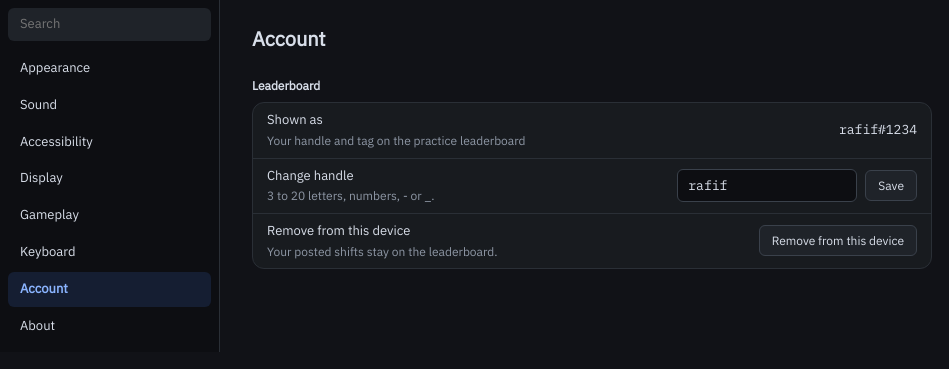
Test case: Settings: Account (M2) › Remove from this device forgets the player
Click the button "Remove from this device". click: (838, 241)
box: [759,226,917,256]
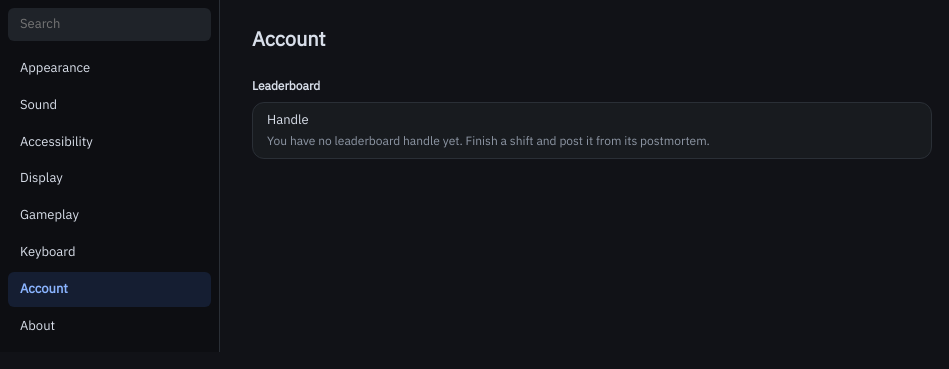
Expected: the text "You have no leaderboard handle yet. Finish a shift and post it from its postmortem." is shown, [267,133,710,148]
